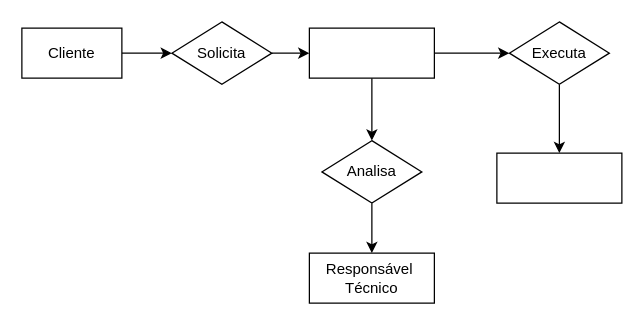
Image size: 644x325. Some labels were removed from this diagram. Each missing label, with the box of its shape:
Ordem de Serviço: (496, 152, 622, 203)
Pedido: (308, 27, 434, 78)
